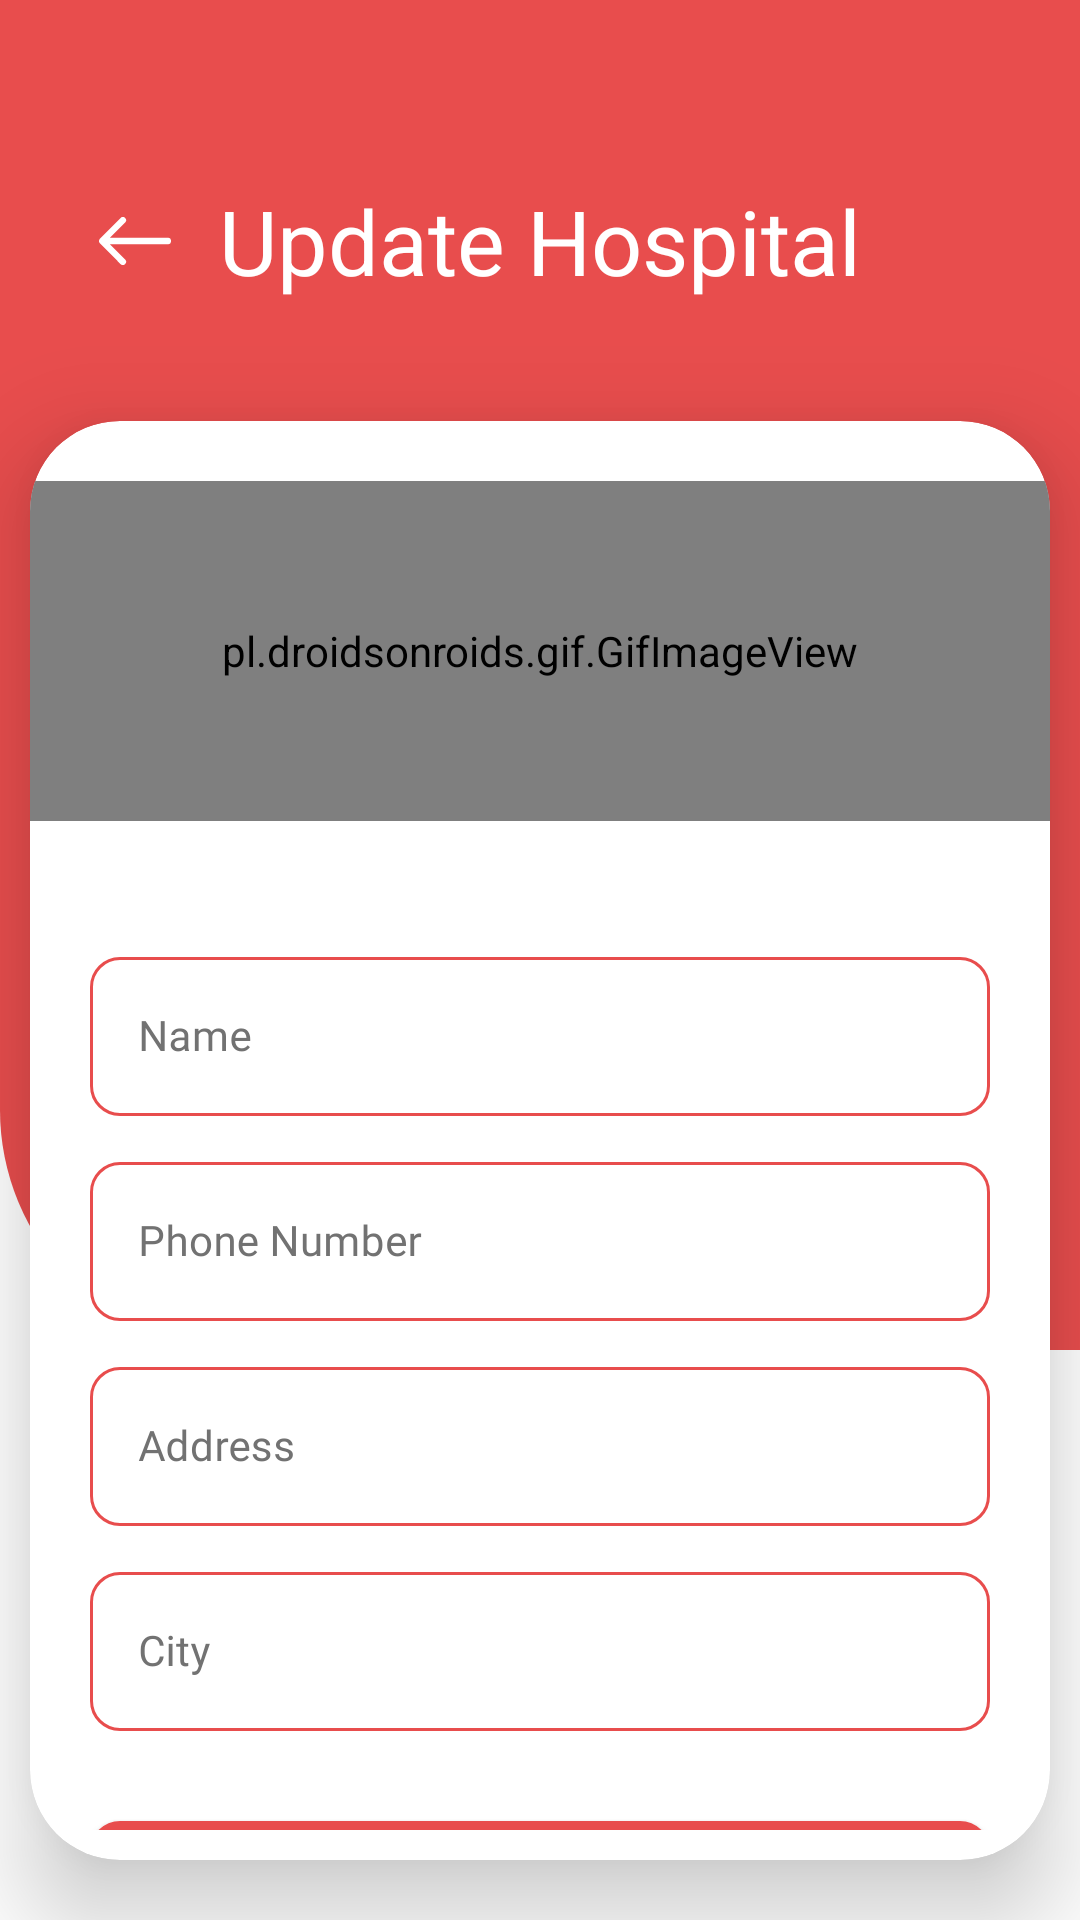

Where icons sit on this 1080 x 1920 app screen, as (x1, y1, x2, y2):
back: (99, 217, 171, 265)
